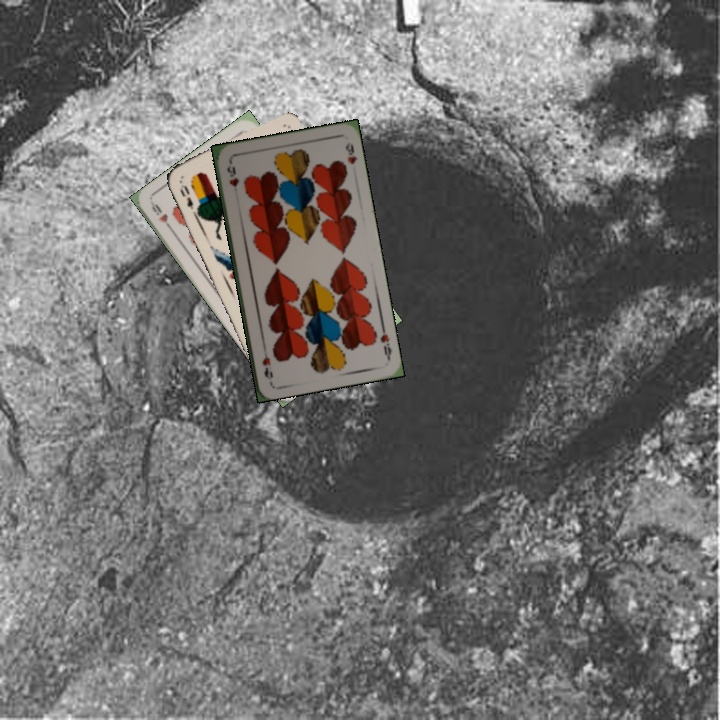EO: (176, 180, 202, 215)
H9: (147, 199, 176, 234), (376, 321, 394, 362), (223, 158, 241, 190)
